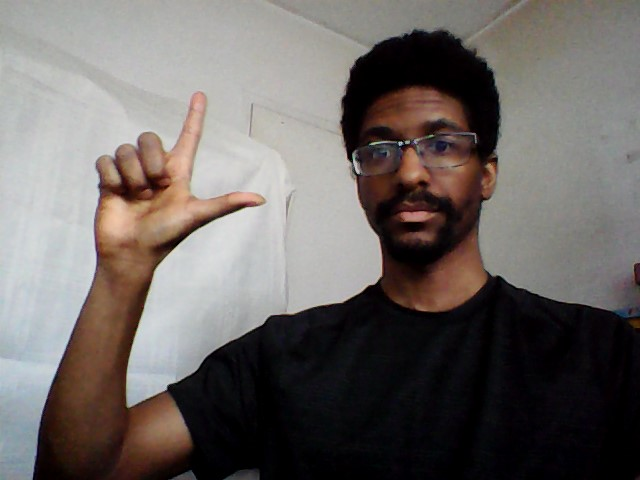l: (87, 86, 271, 267)
